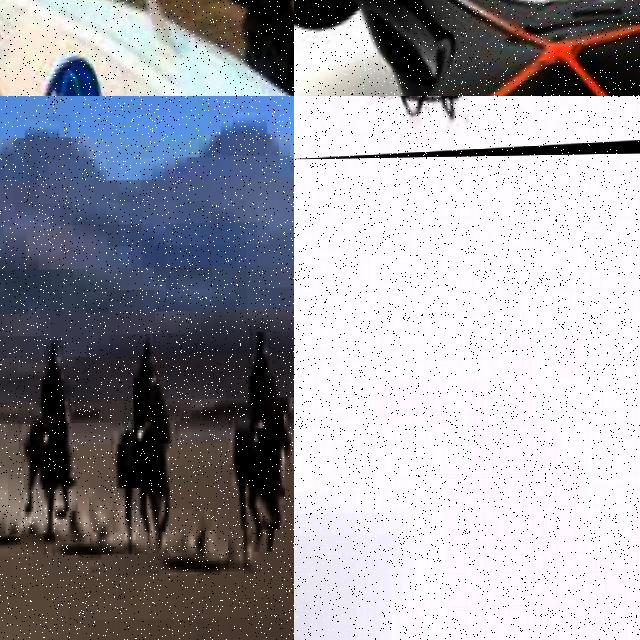0: (294, 96, 640, 159)
drone: (294, 0, 640, 96), (0, 0, 294, 96)
